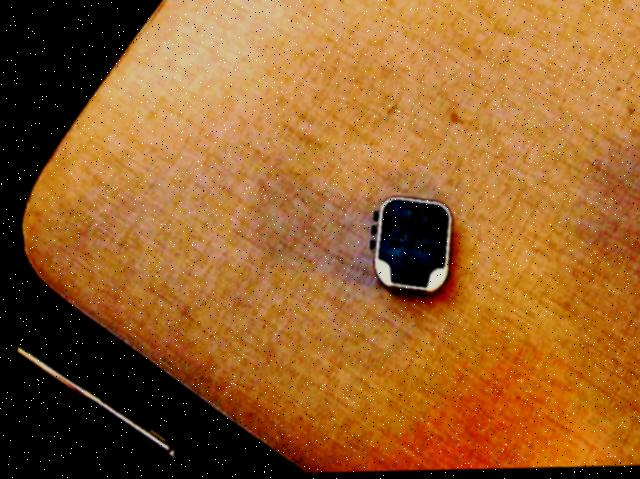adapter: (365, 196, 452, 296)
